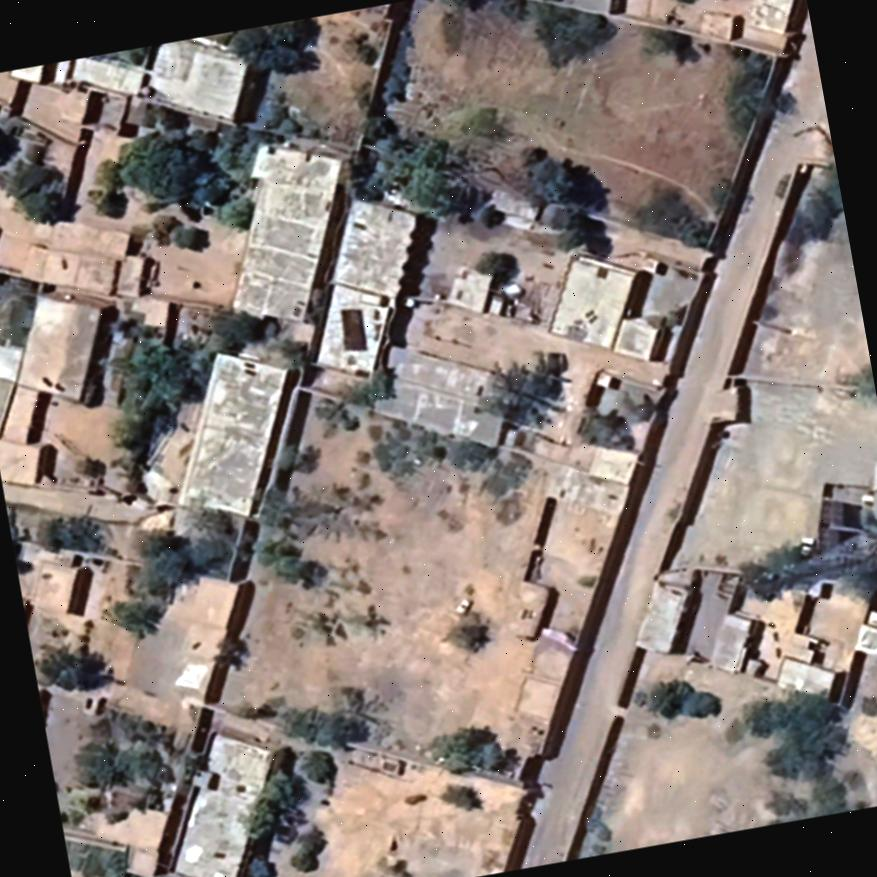Solarpanel: (338, 307, 370, 356)
